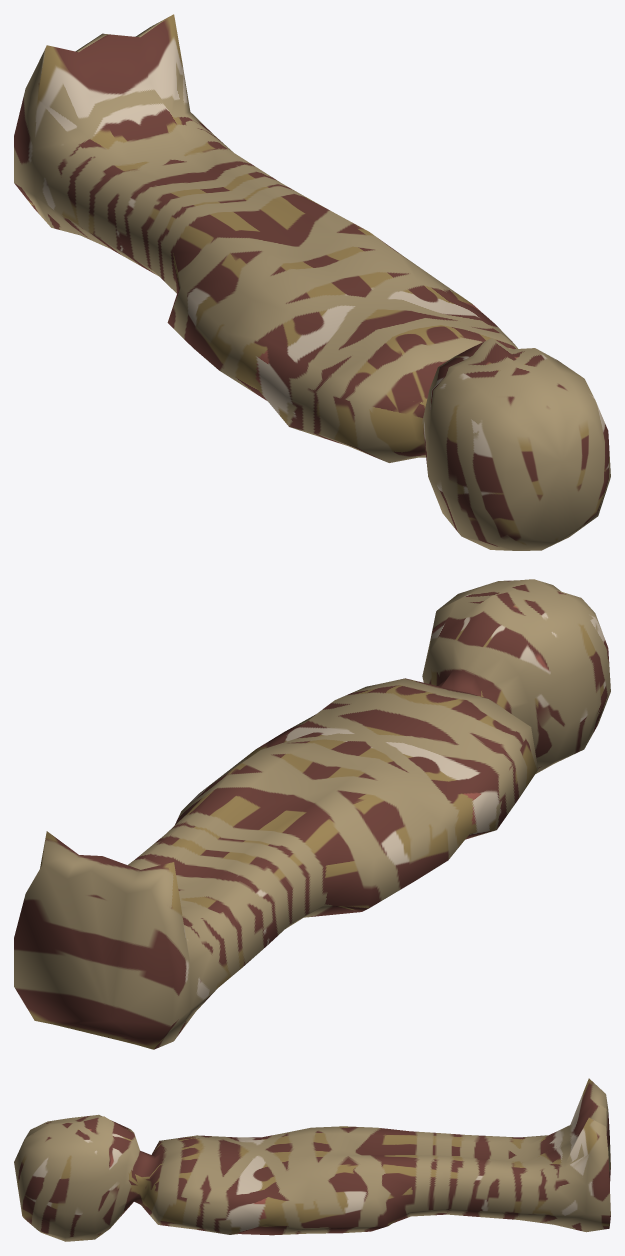
Rendered from mummy.obj.
3 renders of one model, top to bottom at view 1: azimuth 30°, elevation 25°; view 2: azimuth 150°, elevation 25°; view 3: azimuth 270°, elevation 25°, orthographic. The views are drawn at different scales.
Parts seen in each view (by area): view 1: Cylinder; view 2: Cylinder; view 3: Cylinder.
Part boxes in pixels (<box>): Cylinder: <box>14,14,610,550</box>; Cylinder: <box>14,579,610,1049</box>; Cylinder: <box>14,1078,610,1241</box>.
Size of the model in its own units: 0.5292 by 0.4778 by 1.88.
1 material, 1 textured.
